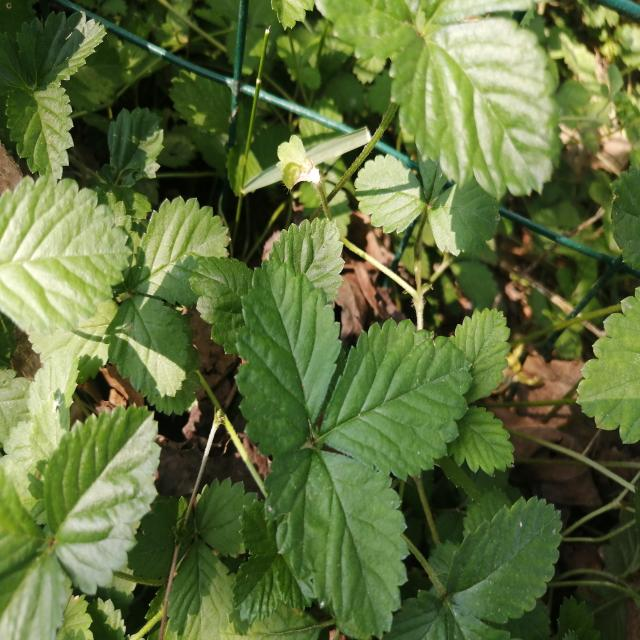Mock_strawberry: (0, 154, 235, 418)
